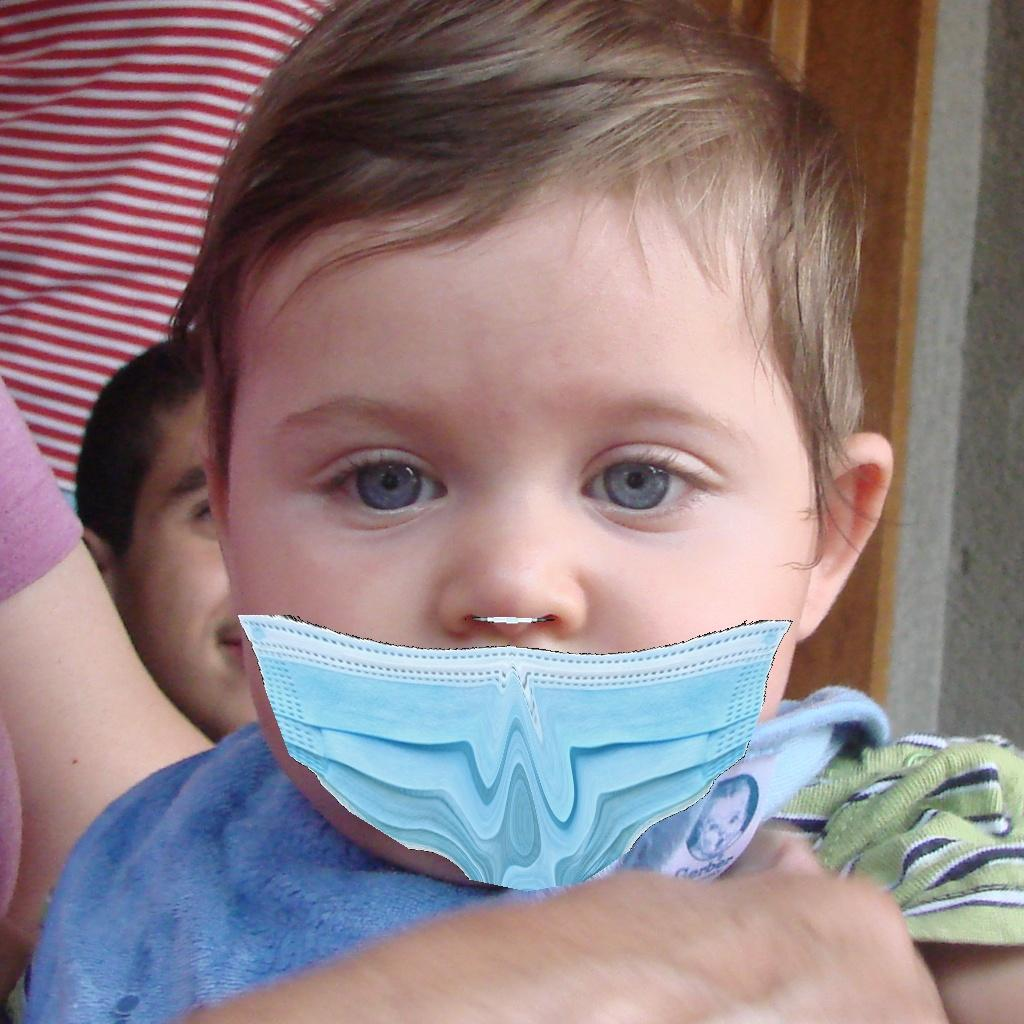Máscara Incorreta: (222, 255, 813, 865)
